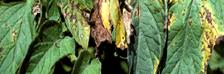Tomato leaf bacterial spot: (158, 0, 224, 74), (119, 0, 167, 74), (0, 0, 41, 74), (53, 0, 91, 55)
